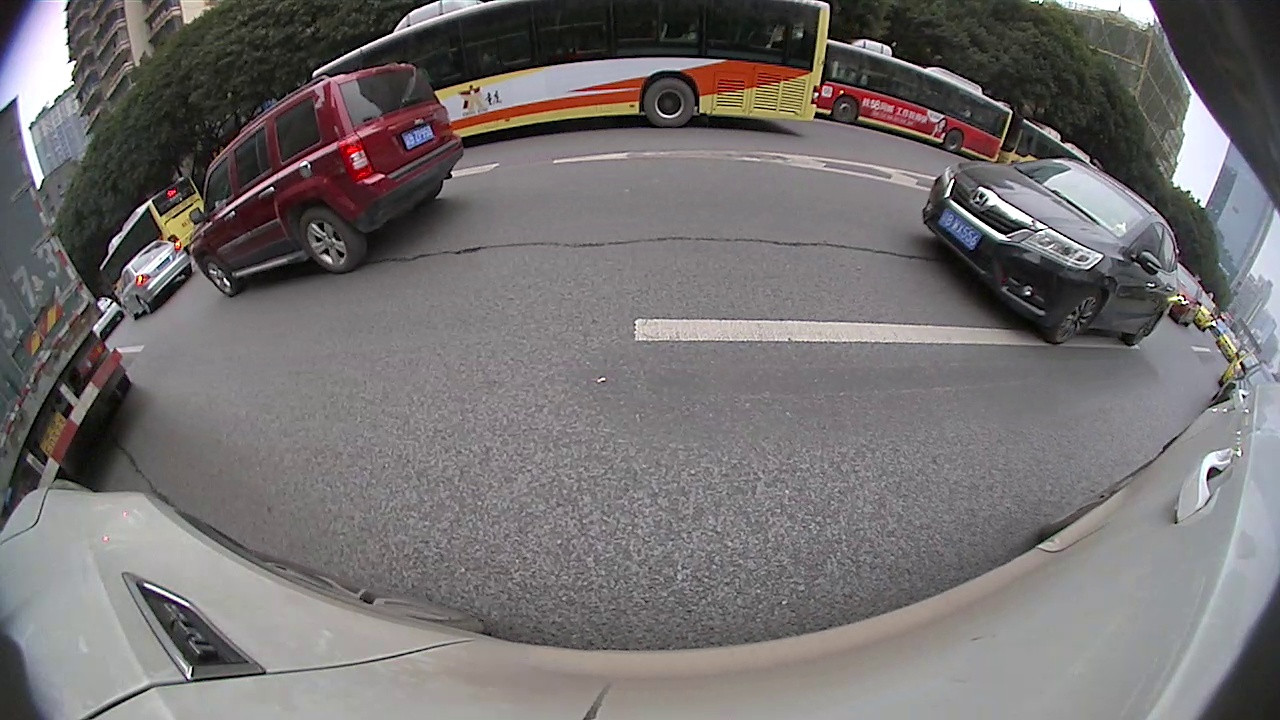bus: (309, 1, 829, 140), (812, 37, 1012, 164), (97, 173, 208, 298), (994, 116, 1107, 173)
car: (186, 60, 467, 301), (921, 157, 1181, 349), (114, 237, 196, 324), (1212, 362, 1279, 409), (1166, 264, 1206, 328)
front: (1046, 288, 1110, 348), (196, 250, 242, 298), (834, 93, 857, 126)
rear: (297, 205, 367, 275), (643, 72, 695, 126), (1124, 309, 1162, 348), (945, 125, 962, 153), (136, 295, 153, 314)
truck: (0, 100, 131, 539)
